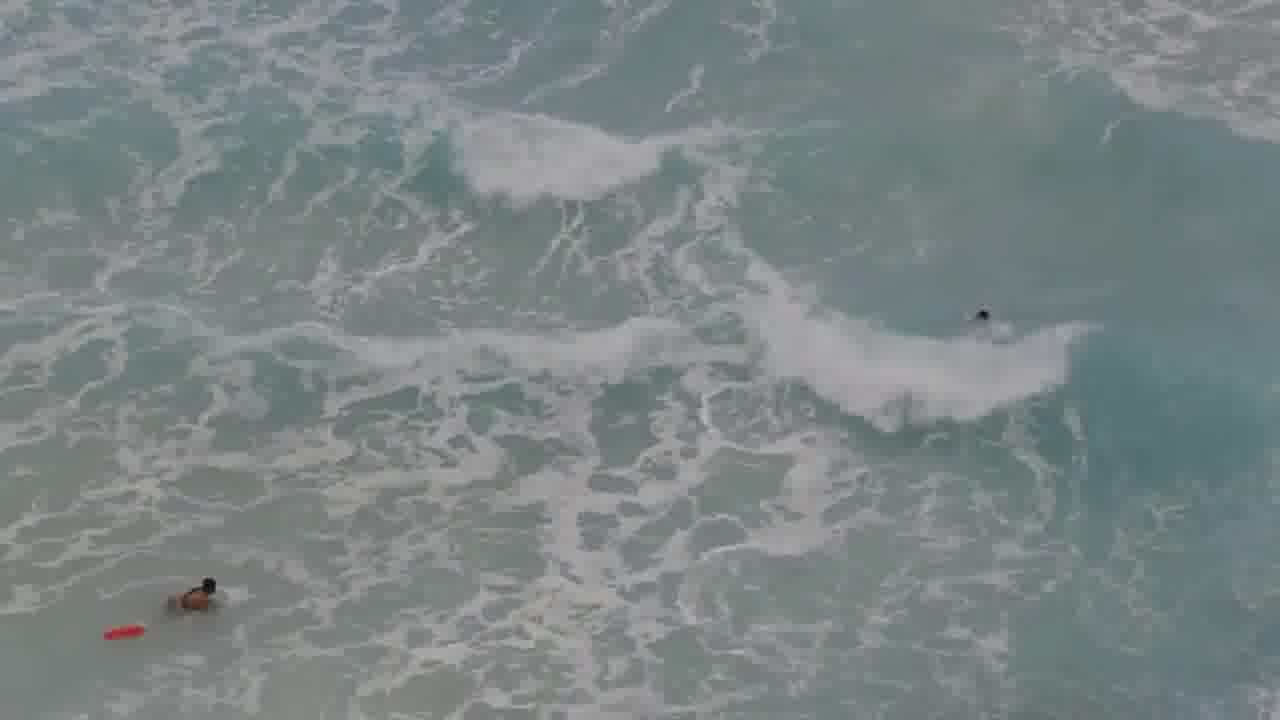human: (170, 568, 252, 617), (957, 295, 1004, 344)
